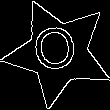O_S: (33, 24, 83, 81)
